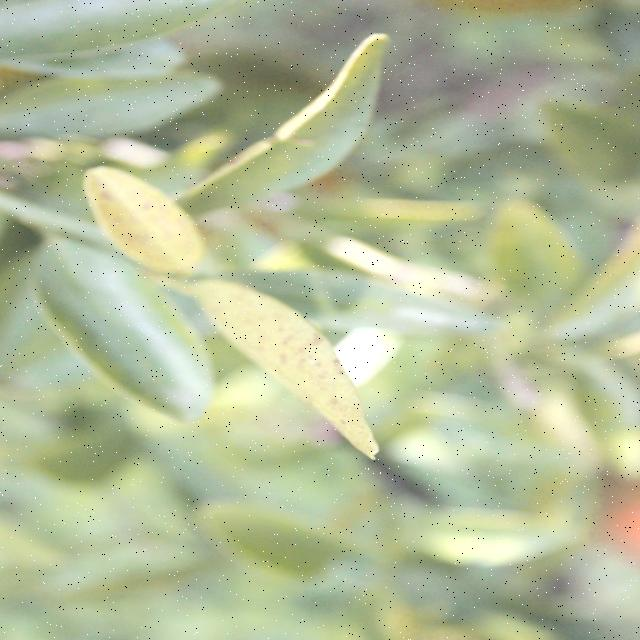melanose: (198, 283, 380, 454), (84, 170, 206, 270)
